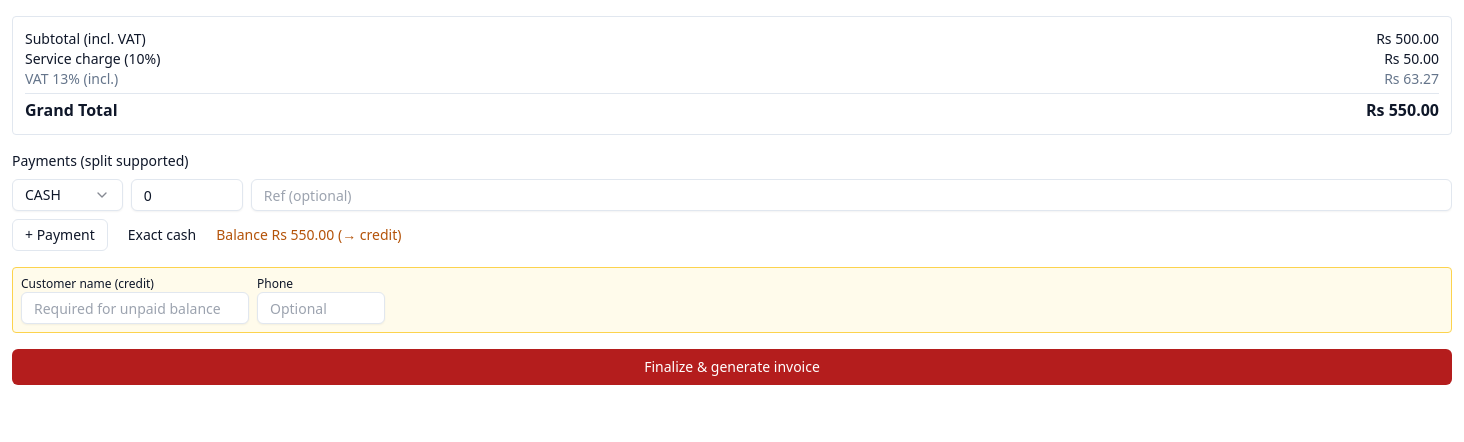
BillSettle overpay UX (P1-15) › + Payment adds a second row and ✕ removes it
This screenshot has width=1464, height=442.
Click the button "+ Payment".
click(60, 235)  # box [12,219,108,251]
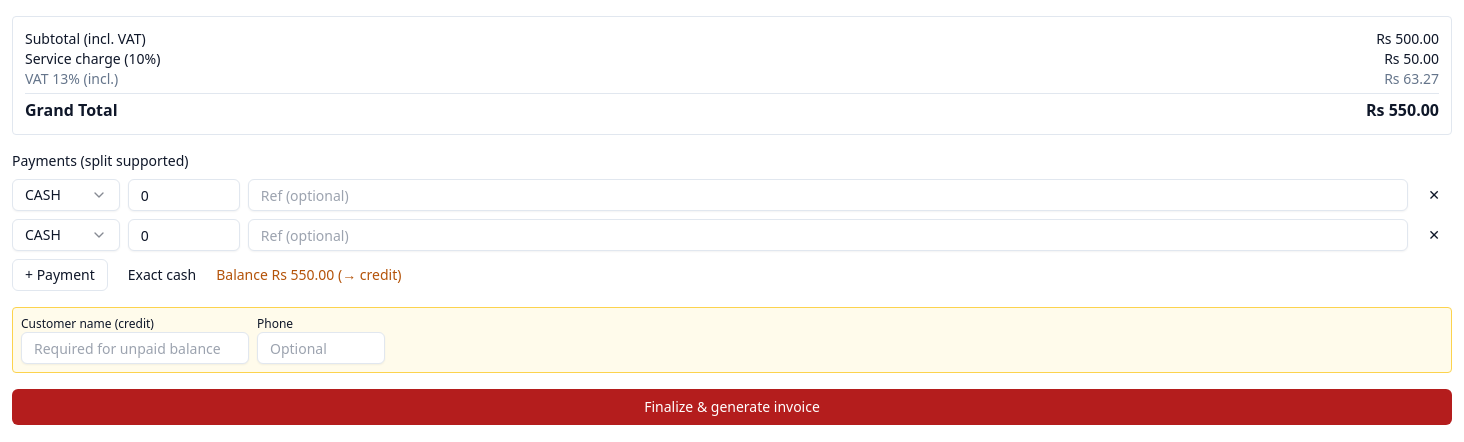
Expected: the number of number fields named "Payment amount" is 2, [128,179,240,211]; [128,219,240,251]
# Two remove buttons now (one per row) — click the last one.
Click the button named "Remove payment row".
click(1434, 235)  # box [1416,219,1452,251]
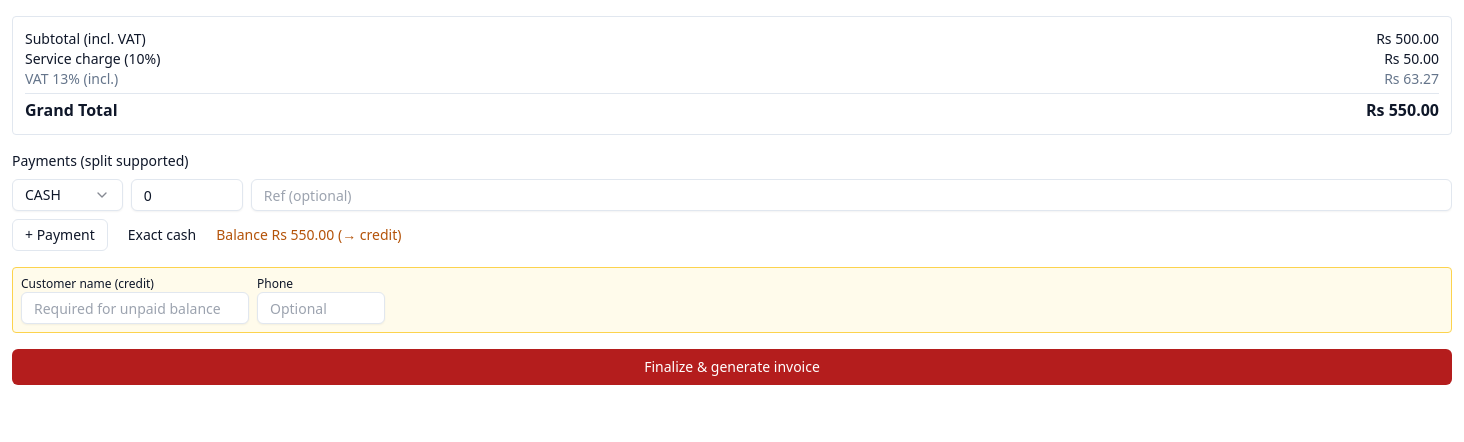
Expected: the number of number fields named "Payment amount" is 1, [131,179,243,211]
